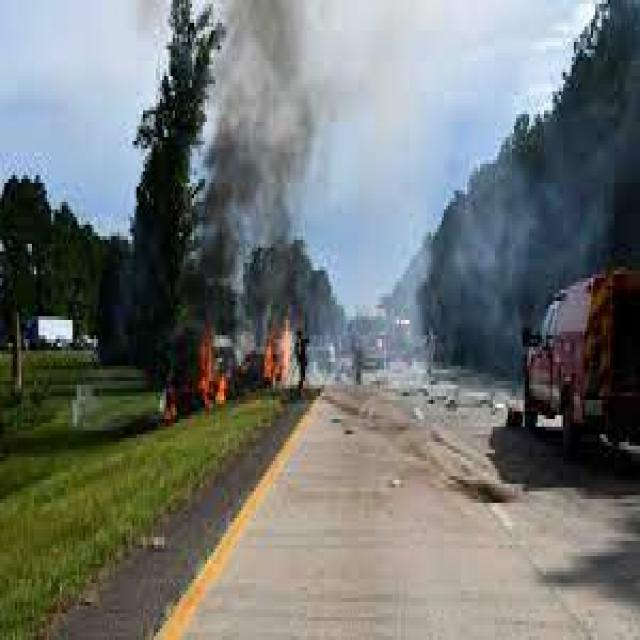fire: (256, 320, 290, 396), (197, 336, 230, 412)
smoke: (192, 4, 350, 278), (405, 156, 523, 385)
